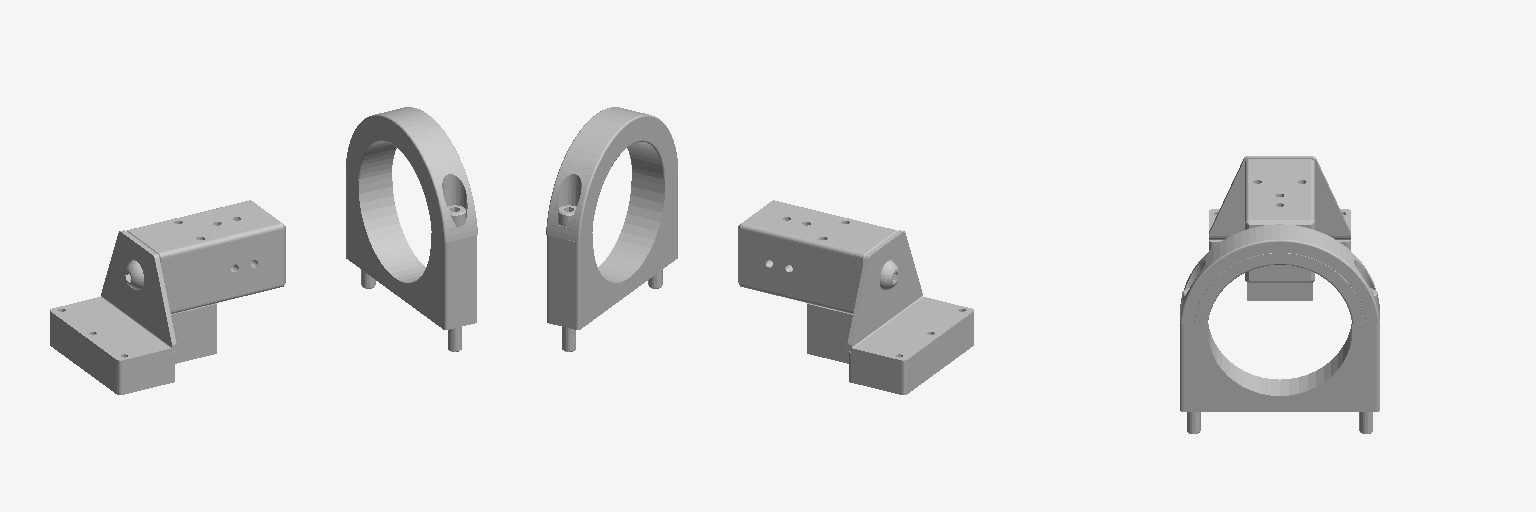
File: left_arm_mount.obj
3 views of the same model, side by side, from view 1: azimuth 30°, elevation 25°; view 2: azimuth 150°, elevation 25°; view 3: azimuth 270°, elevation 25° (orthographic).
Size of the model in its own units: 0.227 by 0.1257 by 0.1143.